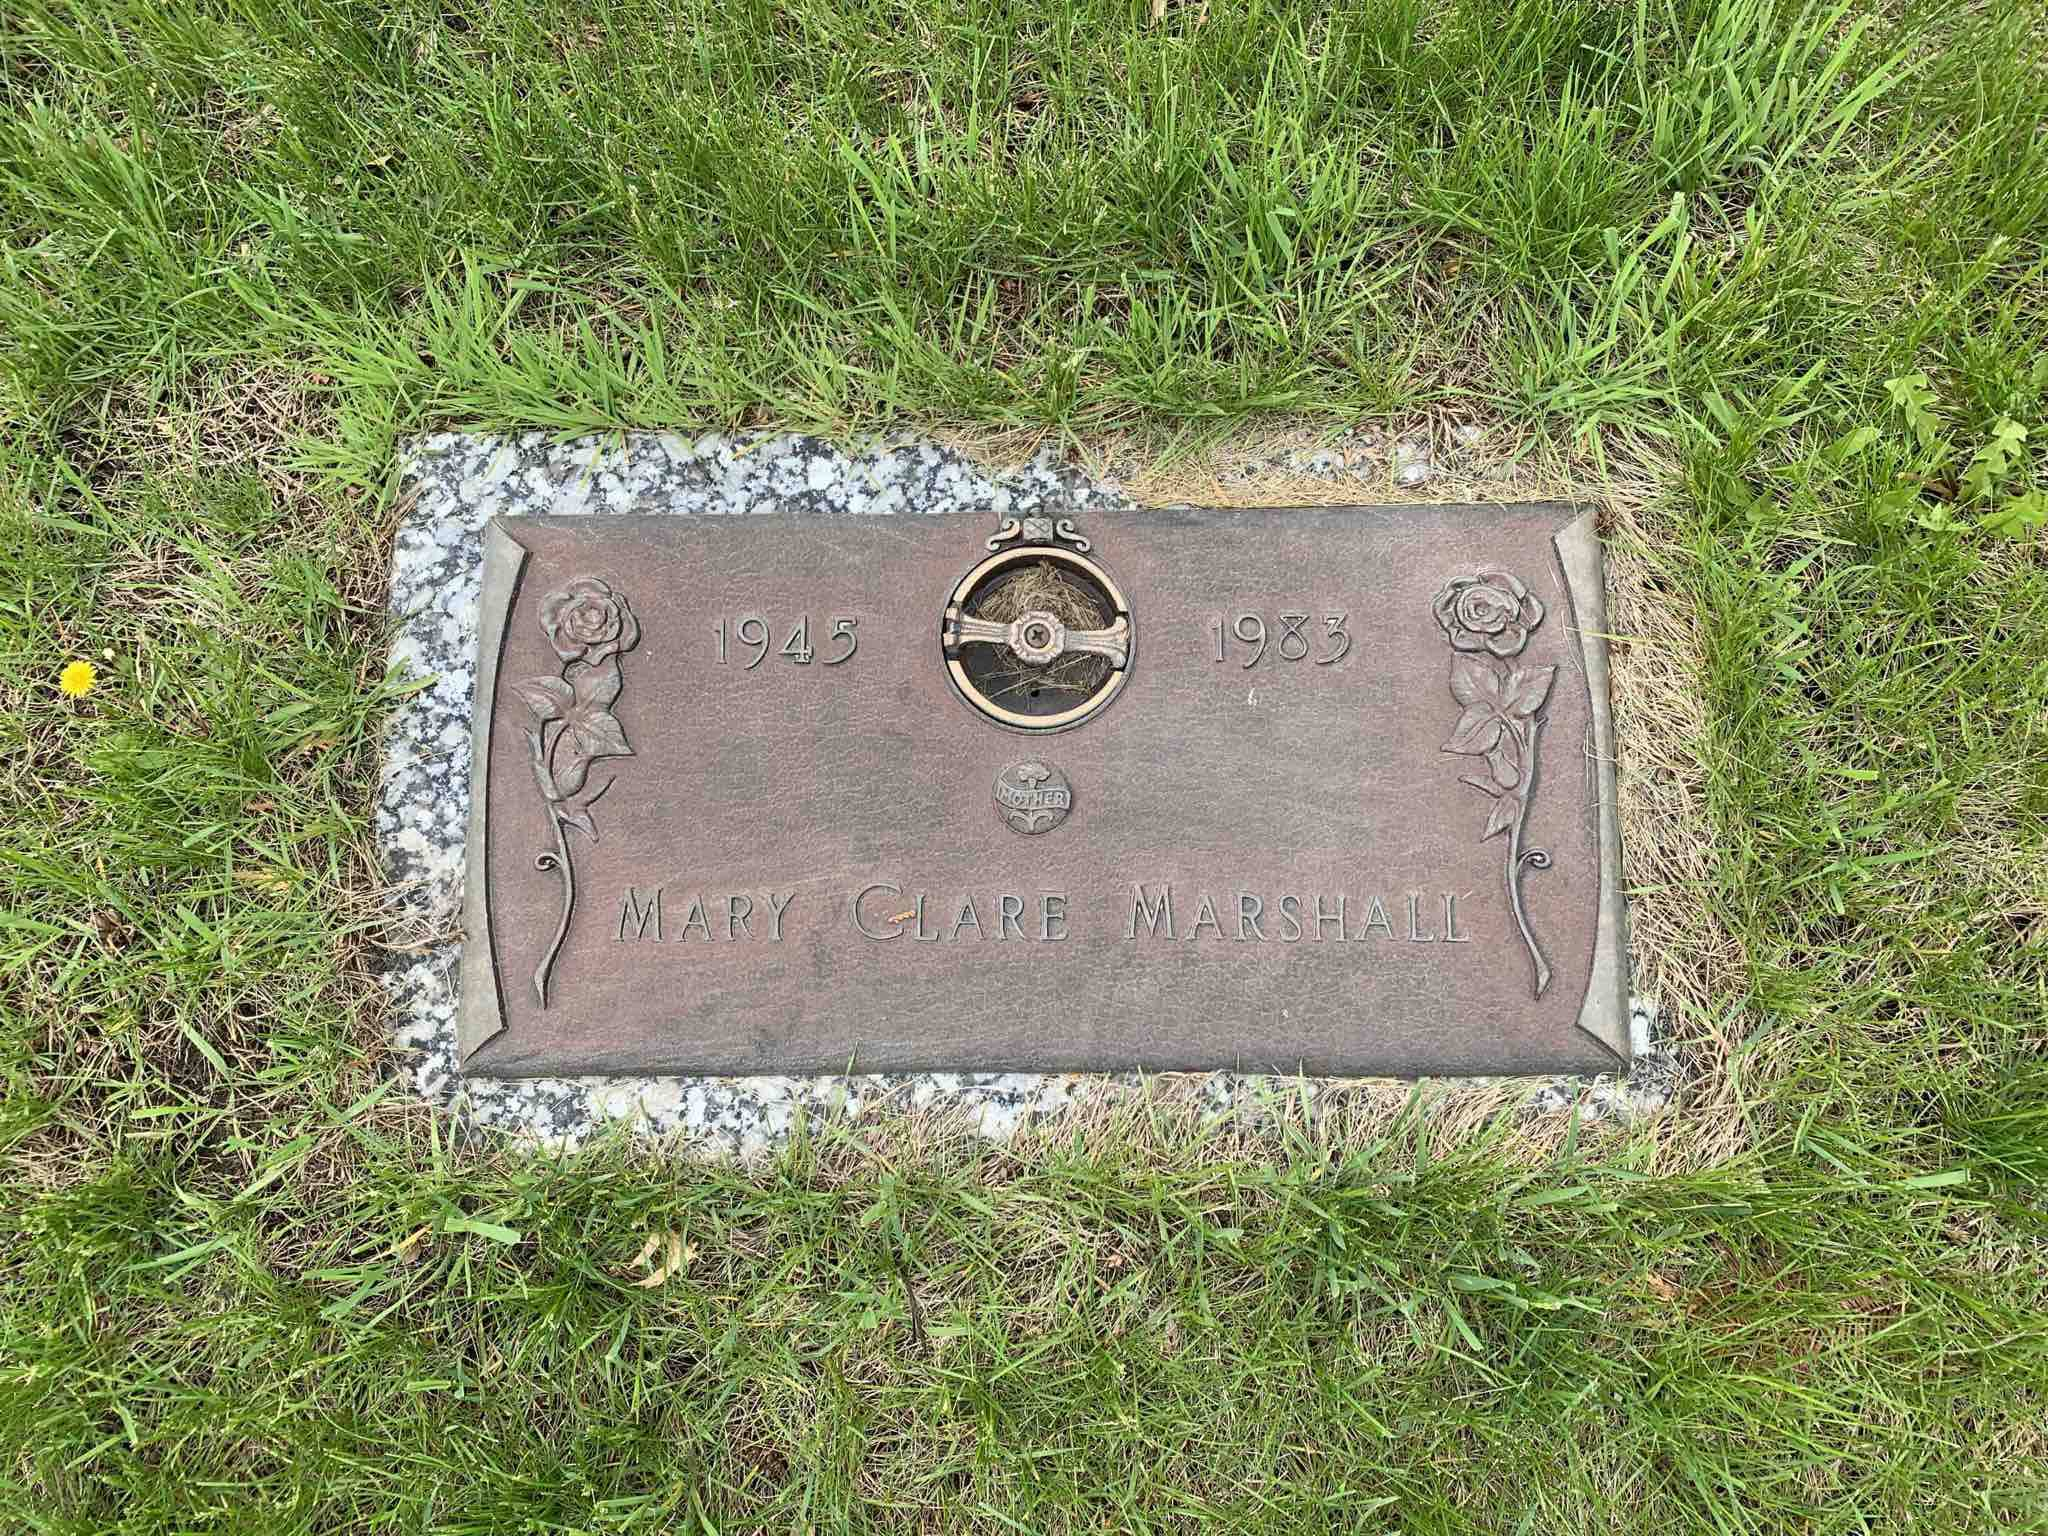flat: (366, 332, 1766, 1176)
